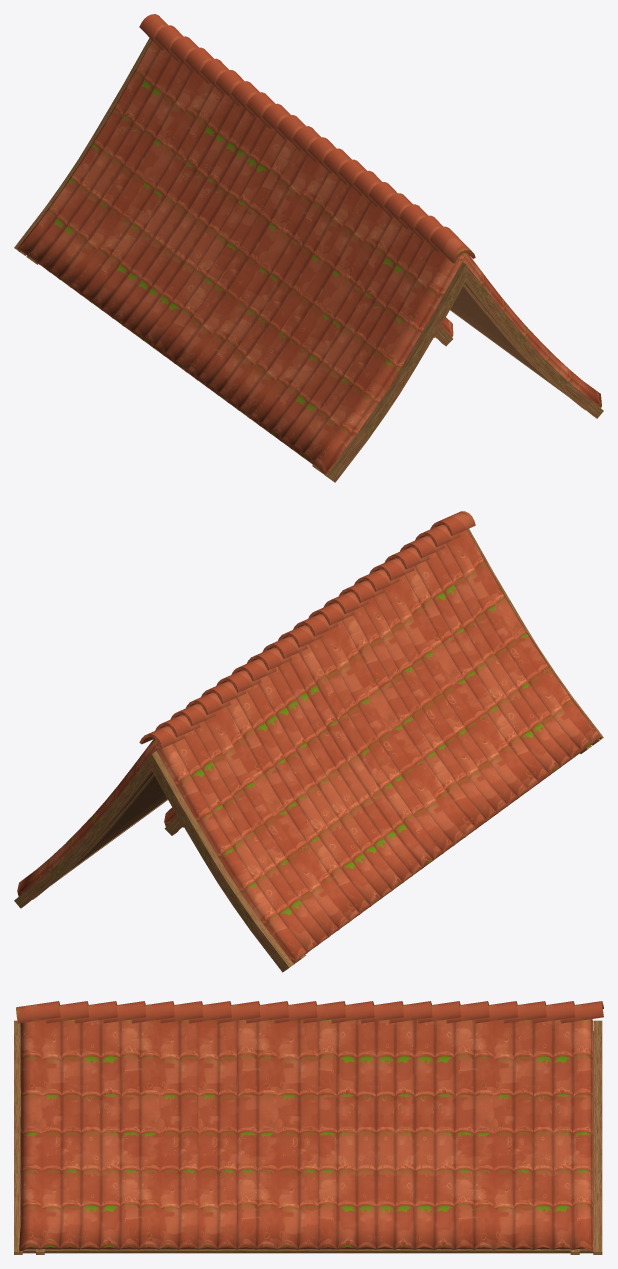
File: village.glb
The picture shows the model from 3 angles, top to bottom: view 1: azimuth 30°, elevation 25°; view 2: azimuth 150°, elevation 25°; view 3: azimuth 270°, elevation 25°; orthographic projection. The views are drawn at different scales.
Visible parts, largest first — view 1: Roof_RoundTiles_6x14; view 2: Roof_RoundTiles_6x14; view 3: Roof_RoundTiles_6x14.
Boxes of the visible parts, <box> form: Roof_RoundTiles_6x14: <box>14,14,603,482</box>; Roof_RoundTiles_6x14: <box>14,511,603,972</box>; Roof_RoundTiles_6x14: <box>14,1001,603,1254</box>.
Bounding box in the file's own units: 8.25 × 7.01 × 15.71.
9 materials, 8 textured.
